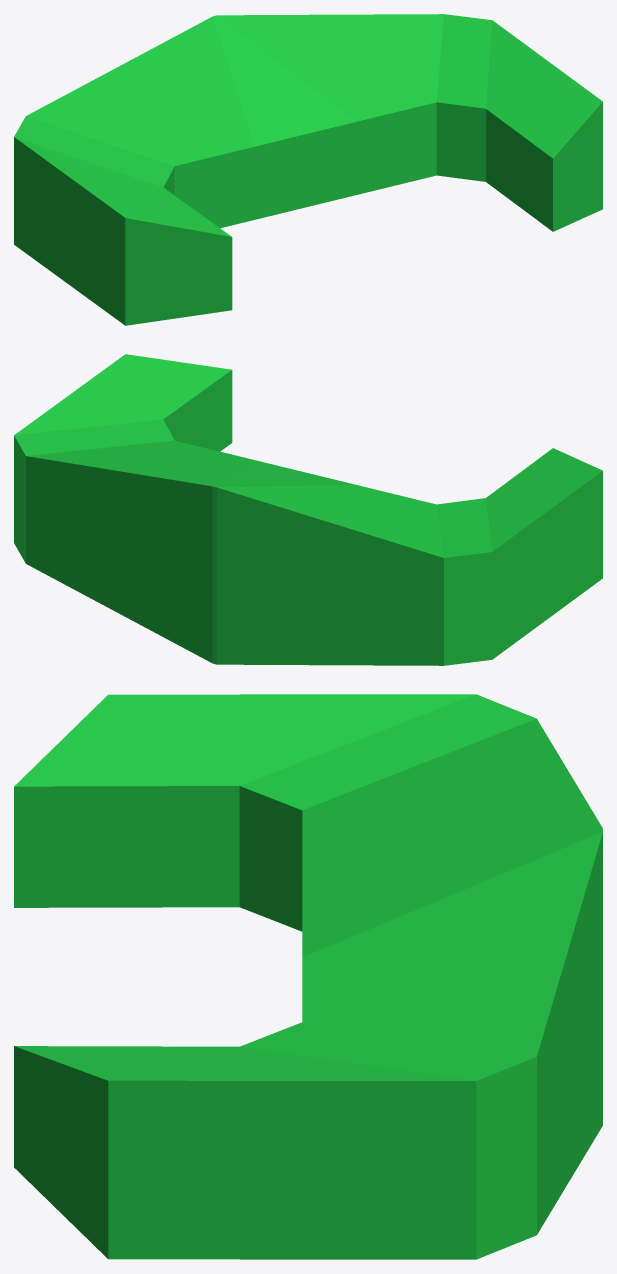
Rendered from Shield.fbx.
3 renders of one model, top to bottom at view 1: azimuth 30°, elevation 25°; view 2: azimuth 150°, elevation 25°; view 3: azimuth 270°, elevation 25°, orthographic. The views are drawn at different scales.
Parts seen in each view (by area): view 1: Cube; view 2: Cube; view 3: Cube.
Part boxes in pixels (<box>): Cube: <box>14,14,602,325</box>; Cube: <box>14,354,602,665</box>; Cube: <box>14,694,602,1259</box>.
Bounding box in the file's own units: 214 × 75.69 × 138.
